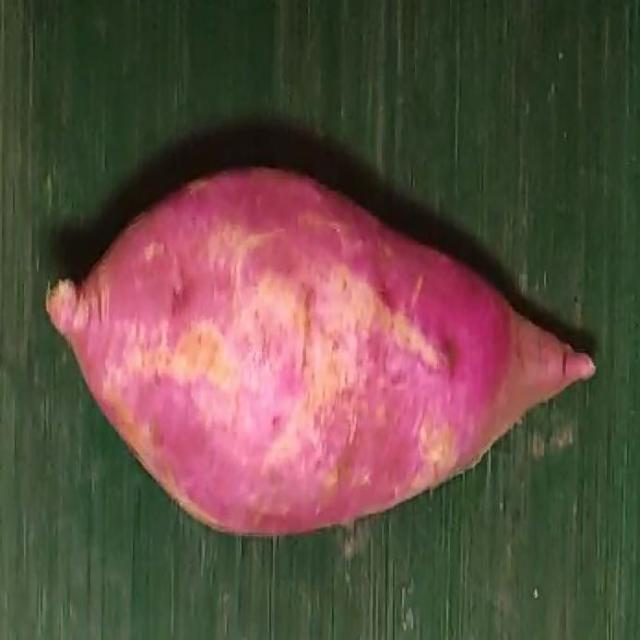Sweet Potato: (45, 167, 596, 539)
